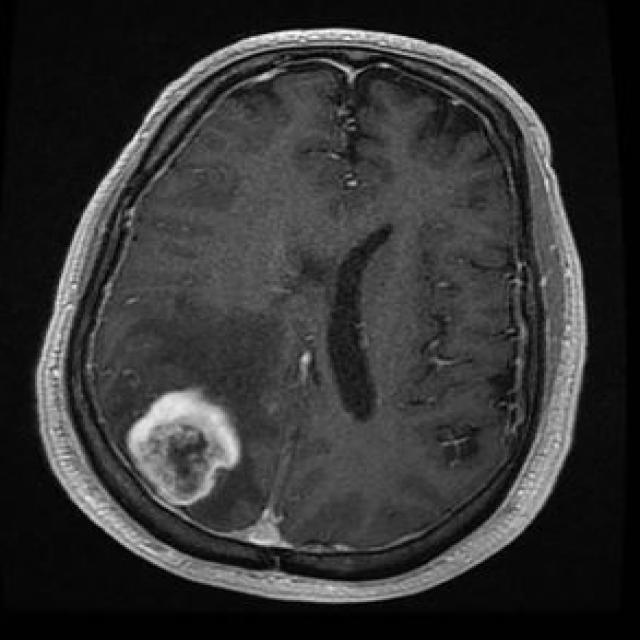Tumor-Cell: (108, 375, 254, 506)
